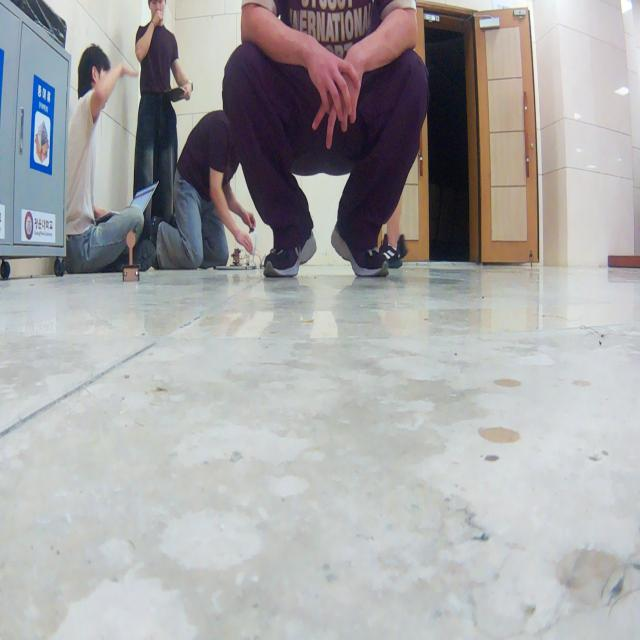target: (120, 228, 142, 283)
